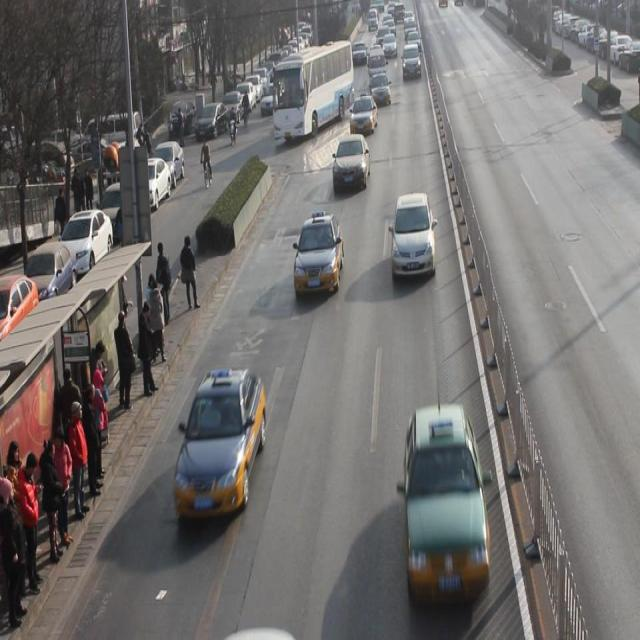car: (404, 408, 491, 602), (174, 369, 267, 521), (295, 215, 344, 298), (391, 196, 436, 282), (333, 136, 371, 193), (350, 96, 379, 136), (369, 75, 392, 108), (402, 45, 422, 81)
truck: (368, 49, 388, 91)
van: (273, 42, 354, 138)
